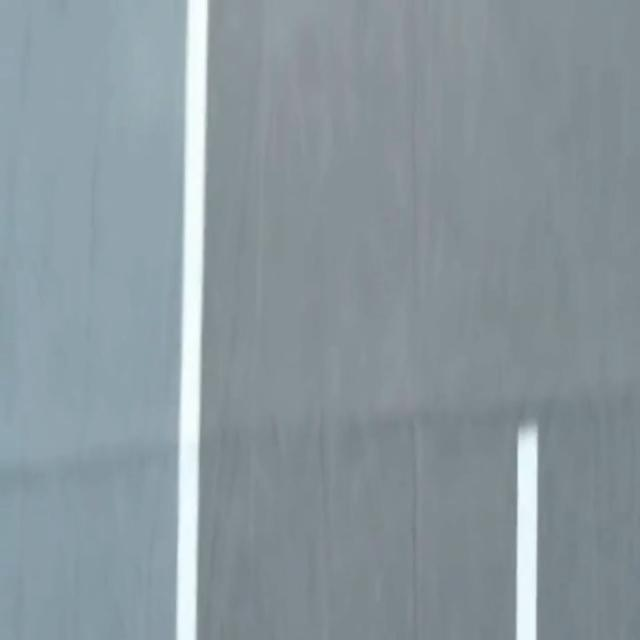center: (516, 422, 538, 639)
left: (176, 0, 208, 639)
